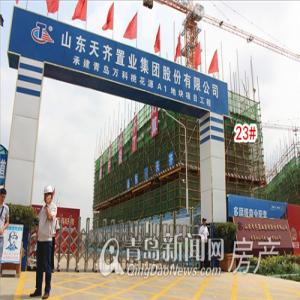none: (2, 188, 8, 207)
white: (43, 184, 54, 205)
